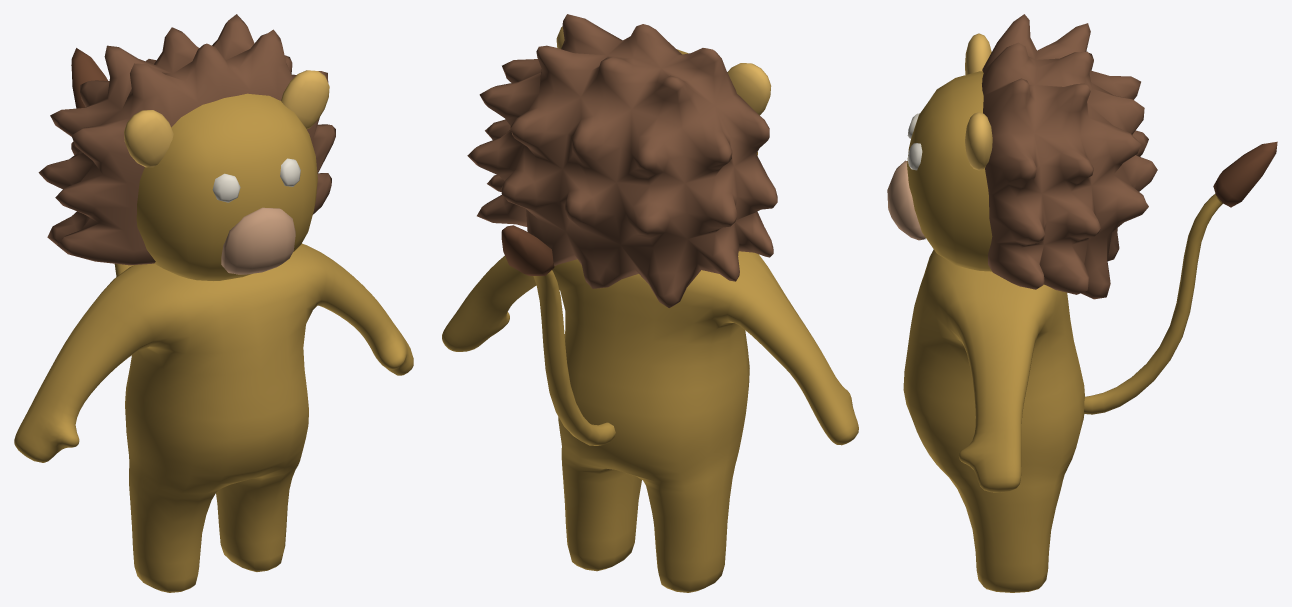
File: lion.fbx
3 renders of one model, left to right at view 1: azimuth 30°, elevation 25°; view 2: azimuth 150°, elevation 25°; view 3: azimuth 270°, elevation 25°, orthographic. The views are drawn at different scales.
Visible parts, largest first — view 1: body.009; view 2: body.009; view 3: body.009.
Boxes of the visible parts, x1=… form: body.009: x1=14, y1=14, x2=413, y2=592; body.009: x1=442, y1=14, x2=858, y2=592; body.009: x1=887, y1=14, x2=1277, y2=592.
Size of the model in its own units: 86.36 by 111 by 75.18.
